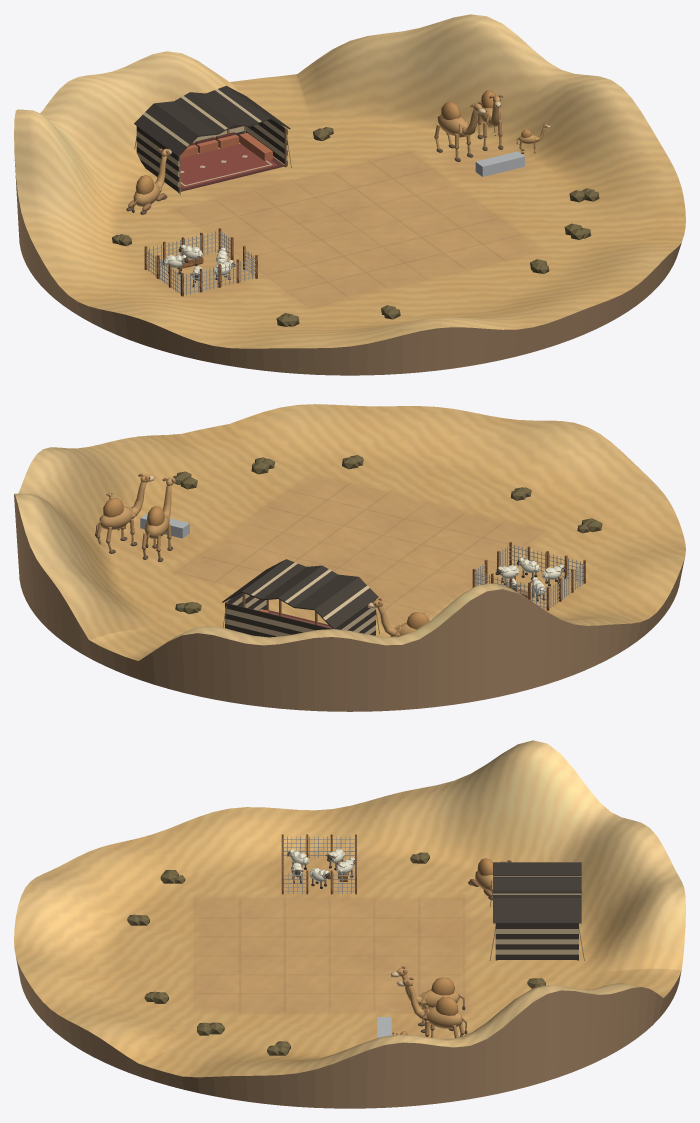
The picture shows the model from 3 angles, top to bottom: view 1: azimuth 30°, elevation 25°; view 2: azimuth 150°, elevation 25°; view 3: azimuth 270°, elevation 25°; orthographic projection.
Parts seen in each view (by area): view 1: Ground, Plinth, tent.002, camel_standing.002, camel_kneeling.002, camel_standing.004, Trough; view 2: Ground, Plinth, tent.002, camel_standing.004, camel_standing.002, camel_kneeling.002; view 3: Ground, Plinth, tent.002, camel_standing.004, camel_standing.002, camel_kneeling.002.
Boxes of the visible parts, x1,y1,x2,y2 form: Ground: (14, 14, 685, 348); Plinth: (14, 160, 681, 375); tent.002: (134, 85, 291, 195); camel_standing.002: (434, 101, 486, 161); camel_kneeling.002: (126, 148, 171, 214); camel_standing.004: (477, 90, 503, 150); Trough: (475, 151, 524, 176); Ground: (14, 404, 685, 660); Plinth: (14, 494, 684, 711); tent.002: (222, 559, 379, 637); camel_standing.004: (95, 473, 155, 553); camel_standing.002: (141, 477, 175, 561); camel_kneeling.002: (367, 598, 429, 636); Ground: (14, 740, 685, 1077); Plinth: (16, 958, 681, 1108); tent.002: (489, 862, 584, 960); camel_standing.004: (397, 977, 467, 1038); camel_standing.002: (391, 966, 465, 1032); camel_kneeling.002: (468, 858, 511, 900).
Size of the model in its own units: 33 by 5.97 by 33.
12 materials, 2 textured.
